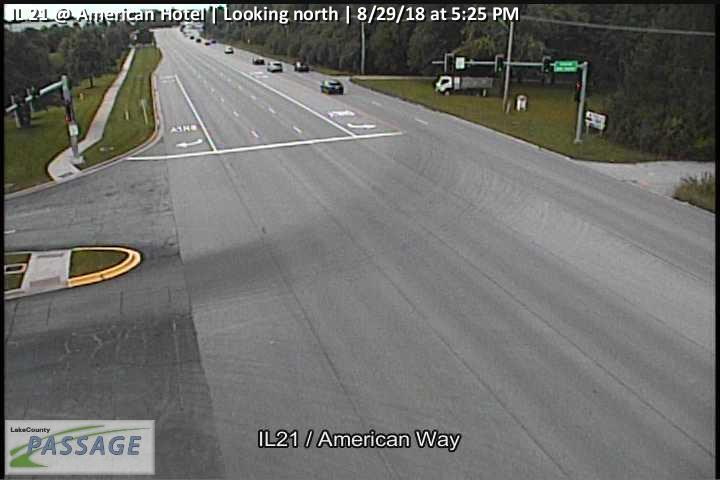Sedan: (320, 79, 344, 95), (267, 62, 281, 71), (294, 63, 308, 70), (253, 56, 263, 63), (223, 46, 233, 53)
Truck: (432, 74, 494, 97)
